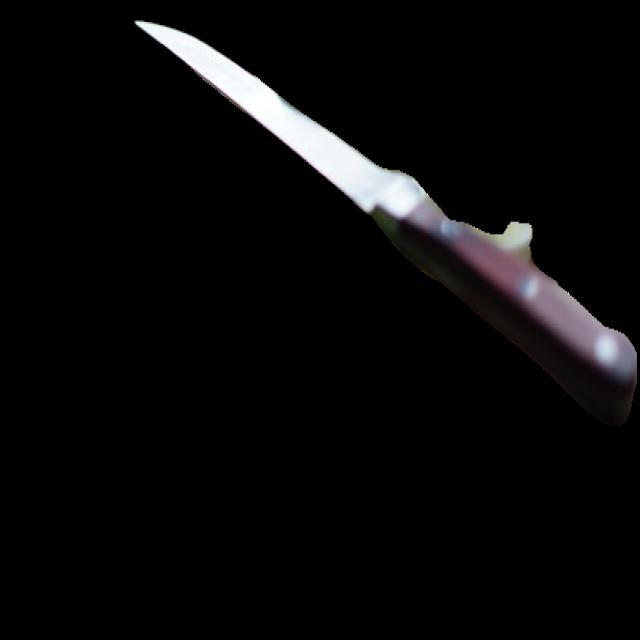knife: (137, 22, 639, 456)
